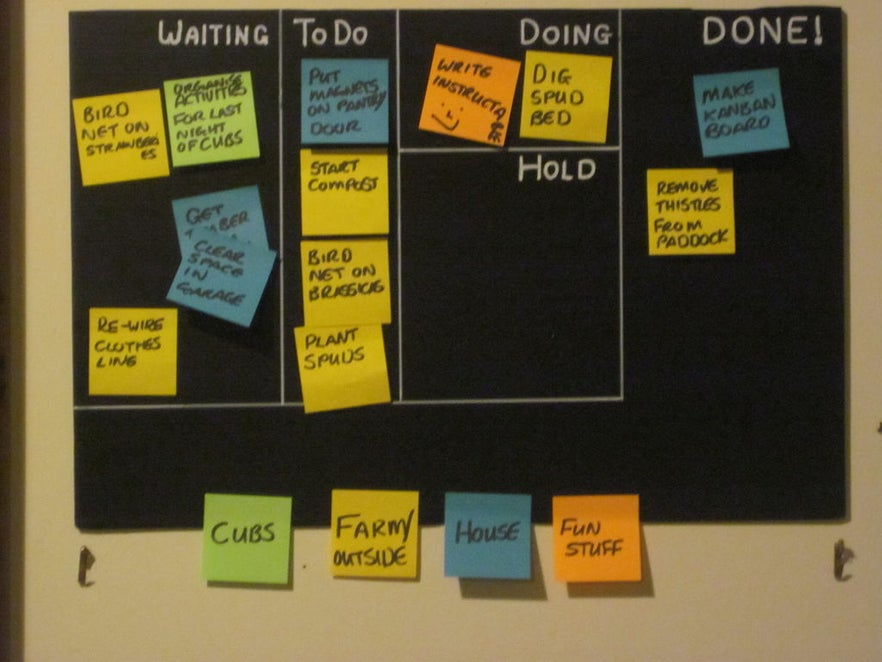stickynote: (416, 41, 519, 150), (165, 226, 276, 324), (289, 321, 402, 416), (640, 162, 742, 263), (200, 487, 298, 590), (72, 85, 172, 184), (163, 68, 261, 168), (328, 483, 425, 583), (690, 66, 793, 160), (521, 44, 613, 148), (88, 303, 185, 401), (440, 486, 535, 584), (547, 489, 645, 584), (297, 236, 398, 325), (169, 183, 274, 267), (296, 53, 390, 143), (297, 144, 391, 234)
